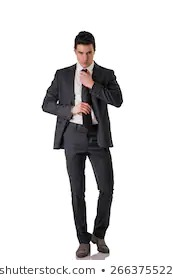F_tie: (76, 65, 96, 133)
